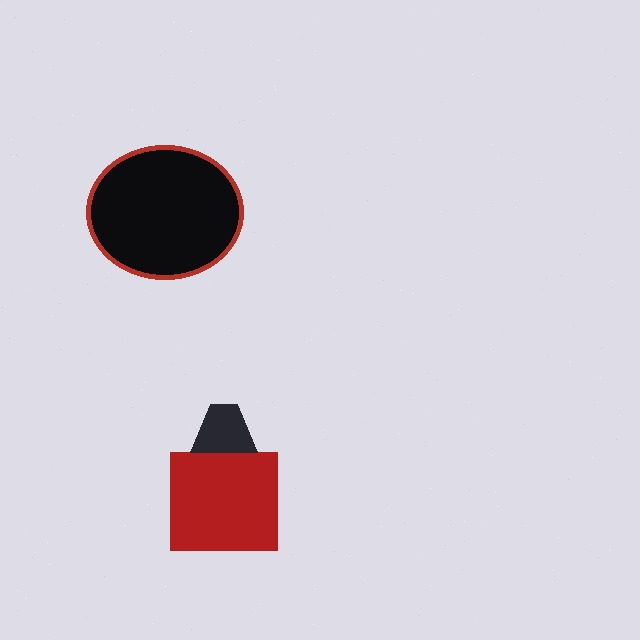open_manhole: (86, 145, 243, 279)
vehicle: (170, 404, 277, 550)
